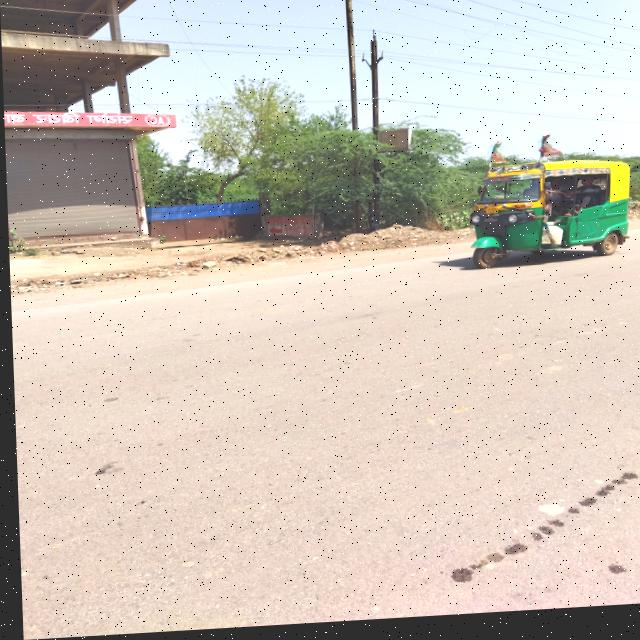plate: (482, 213, 499, 221)
